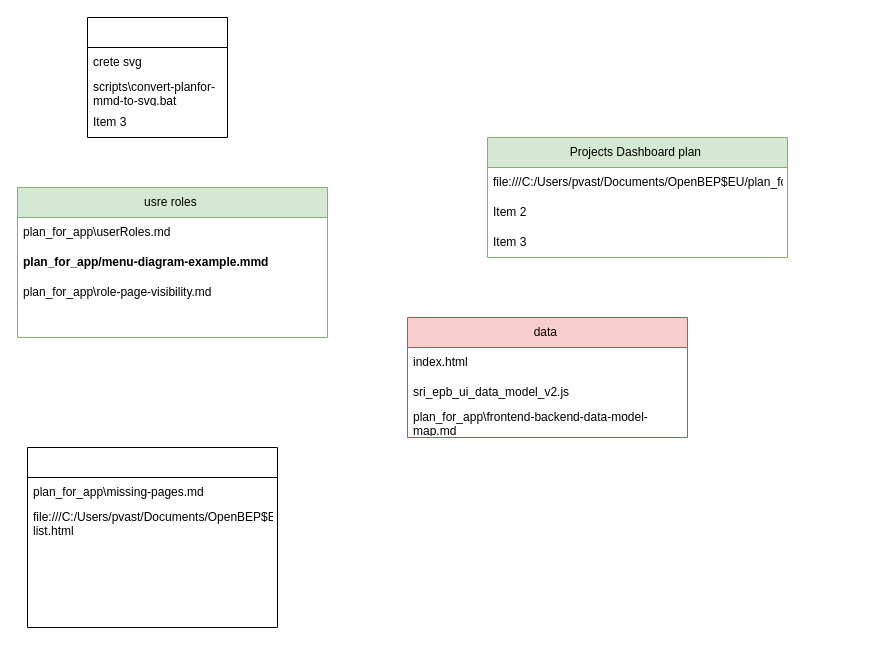
The diagram is 886 pixels wide and 645 high, and some of its shapes have lost their labels. The shapes that lost their labels are listed below. From the top down, each one's box as (x1, y1, x2, y2) in pixels, then its label:
(86, 16, 228, 138): List
(26, 446, 278, 628): mising pages
